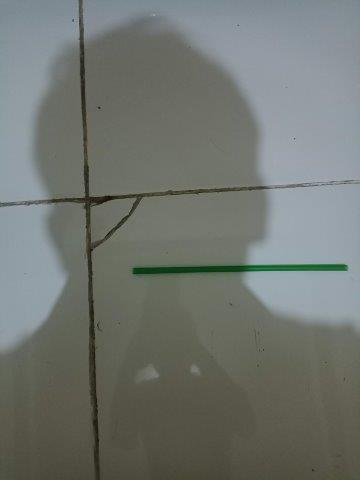sedotan: (133, 264, 348, 272)
